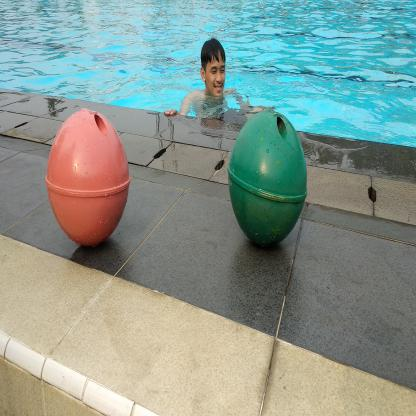green_buoy: (226, 107, 309, 255)
red_buoy: (42, 99, 136, 260)
